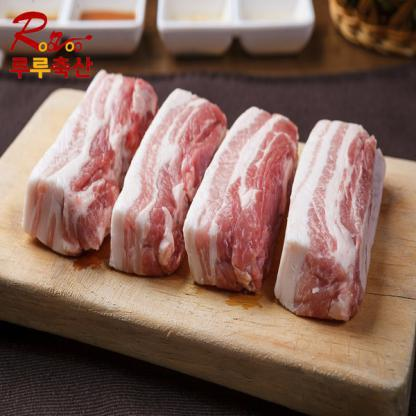pork: (60, 72, 388, 322)
